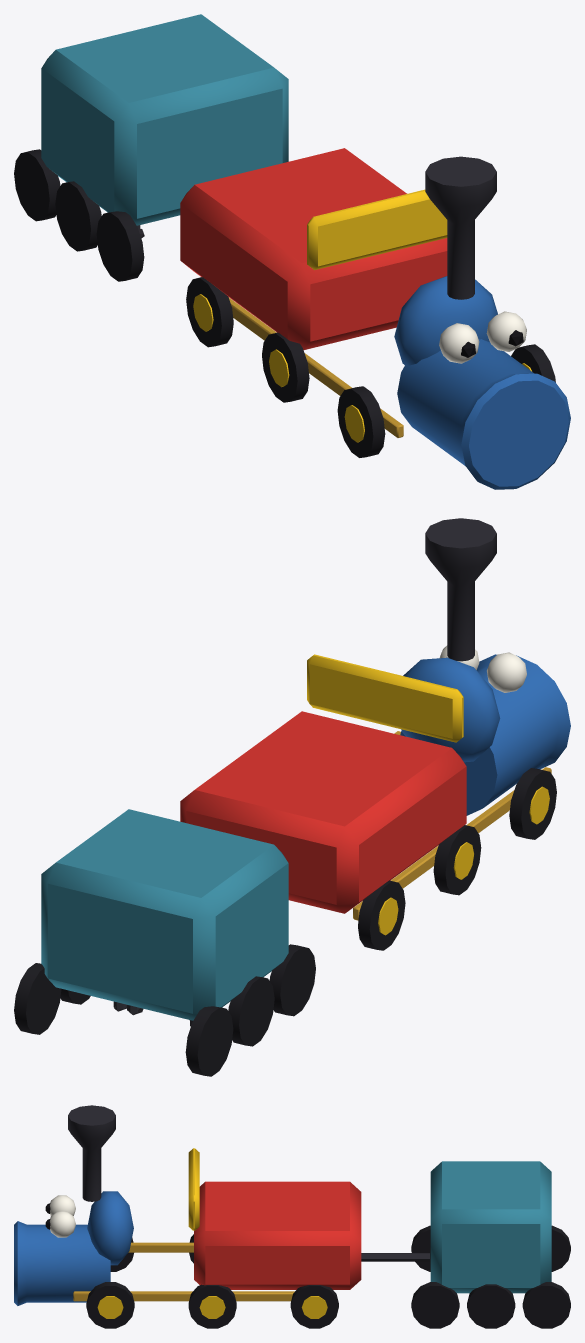
The model's file is mall_train.glb.
3 views of the same model, one above another, from view 1: azimuth 30°, elevation 25°; view 2: azimuth 150°, elevation 25°; view 3: azimuth 270°, elevation 25° (orthographic). The views are drawn at different scales.
Parts seen in each view (by area): view 1: mall_train; view 2: mall_train; view 3: mall_train.
Part boxes in pixels (bbox=[...]): mall_train: bbox=[14, 14, 570, 489]; mall_train: bbox=[14, 518, 570, 1076]; mall_train: bbox=[14, 1105, 570, 1328].
Bounding box in the file's own units: 1.56 × 2.22 × 6.
